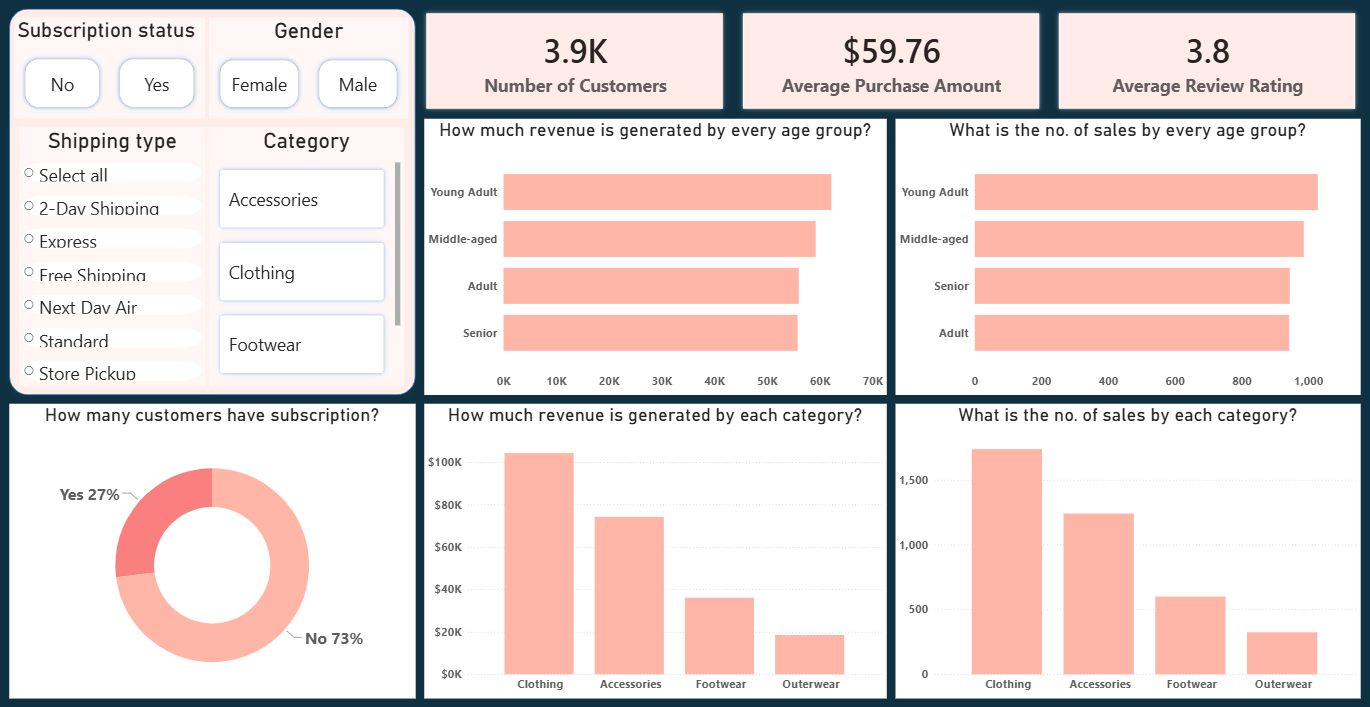

The page's visual inventory and layout, read from the dashboard file:
{"tool":"powerbi","page":{"name":"Page 1","canvas":[2080,1080],"ordinal":0},"visuals":[{"type":"cardVisual","fields":{"Data":["customer_behaviour customer.Number of Customers","customer_behaviour customer.Average Purchase Amount","customer_behaviour customer.Average Review Rating"]},"box":[619.8,0,1460.6,200.3],"z":0},{"type":"donutChart","title":"How many customers have subscription?","fields":{"Category":["customer_behaviour customer.subscription_status"],"Y":["CountNonNull(customer_behaviour customer.customer_id)"]},"box":[17,617.9,614.1,445.9],"z":1000},{"type":"clusteredColumnChart","title":"How much revenue is generated by each category?","fields":{"Y":["Sum(customer_behaviour customer.purchase_amount)"],"Category":["customer_behaviour customer.category"]},"box":[644.3,617.9,699.1,445.9],"z":2000},{"type":"shape","box":[17,20.8,614.1,583.9],"z":2500},{"type":"clusteredColumnChart","title":"What is the no. of sales by each category?","fields":{"Category":["customer_behaviour customer.category"],"Y":["CountNonNull(customer_behaviour customer.customer_id)"]},"box":[1356.7,617.9,702.9,445.9],"z":3000},{"type":"advancedSlicerVisual","title":"Subscription status","fields":{"Values":["customer_behaviour customer.subscription_status"]},"box":[24.6,34,289.1,153.1],"z":4000},{"type":"advancedSlicerVisual","title":"Gender","fields":{"Values":["customer_behaviour customer.gender"]},"box":[319.3,34,300.4,153.1],"z":5000},{"type":"listSlicer","title":"Shipping type","fields":{"Values":["customer_behaviour customer.shipping_type"]},"box":[32.1,200.3,281.5,389.2],"z":6000},{"type":"advancedSlicerVisual","title":"Category","fields":{"Values":["customer_behaviour customer.category"]},"box":[319.3,200.3,294.8,389.2],"z":7000},{"type":"clusteredBarChart","title":"How much revenue is generated by every age group?","fields":{"Y":["Sum(customer_behaviour customer.purchase_amount)"],"Category":["customer_behaviour customer.age_group"]},"box":[644.3,187.1,699.1,417.6],"z":8000},{"type":"clusteredBarChart","title":"What is the no. of sales by every age group?","fields":{"Category":["customer_behaviour customer.age_group"],"Y":["CountNonNull(customer_behaviour customer.customer_id)"]},"box":[1356.7,187.1,702.9,417.6],"z":9000}]}

Visuals, with their boxes in screenshot pixels (x1, y1, x2, y2), scaled from the page's 2080x1080 canvas onto the 1370x707 screenshot:
cardVisual - customer_behaviour customer.Number of Customers x customer_behaviour customer.Average Purchase Amount: region(408, 0, 1369, 131)
"How many customers have subscription?" donutChart: region(11, 404, 416, 696)
"How much revenue is generated by each category?" clusteredColumnChart: region(424, 404, 885, 696)
shape: region(11, 14, 416, 396)
"What is the no. of sales by each category?" clusteredColumnChart: region(894, 404, 1357, 696)
"Subscription status" advancedSlicerVisual: region(16, 22, 207, 122)
"Gender" advancedSlicerVisual: region(210, 22, 408, 122)
"Shipping type" listSlicer: region(21, 131, 207, 386)
"Category" advancedSlicerVisual: region(210, 131, 404, 386)
"How much revenue is generated by every age group?" clusteredBarChart: region(424, 122, 885, 396)
"What is the no. of sales by every age group?" clusteredBarChart: region(894, 122, 1357, 396)
